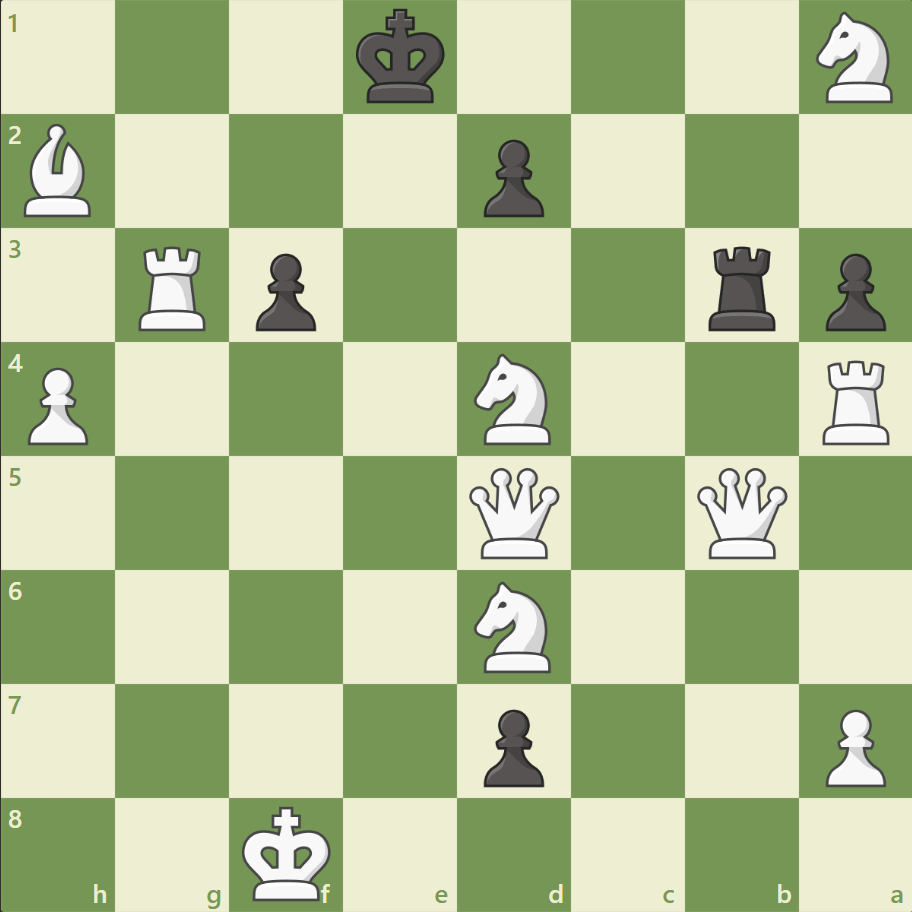B: (17, 120, 101, 222)
K: (238, 798, 338, 906)
N: (806, 7, 903, 110), (465, 575, 562, 677), (465, 348, 562, 450)
P: (20, 359, 95, 450), (815, 700, 889, 791)
Q: (691, 463, 790, 562), (464, 463, 563, 562)
R: (814, 352, 897, 449), (133, 239, 215, 336)
k: (351, 4, 451, 112)
p: (474, 700, 549, 791), (247, 246, 322, 337), (474, 132, 549, 223), (815, 246, 889, 337)
r: (700, 239, 783, 336)
